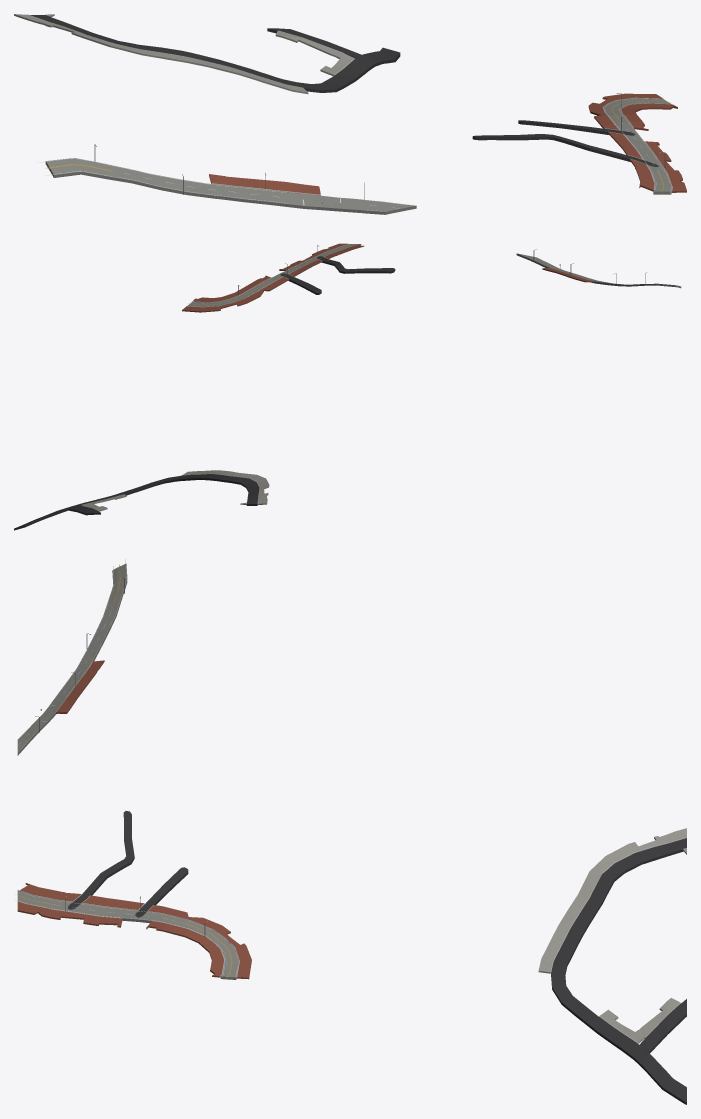
The model's file is 17-109456-59475.ada82998.glb.
The picture shows the model from 3 angles, top to bottom: view 1: azimuth 30°, elevation 25°; view 2: azimuth 150°, elevation 25°; view 3: azimuth 270°, elevation 25°; orthographic projection. The views are drawn at different scales.
Bounding box in the file's own units: 298 × 126 × 293.
